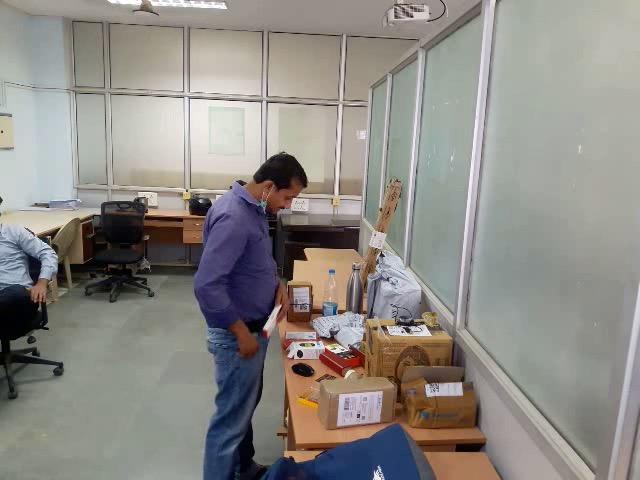shoplifting: (181, 278, 314, 406)
